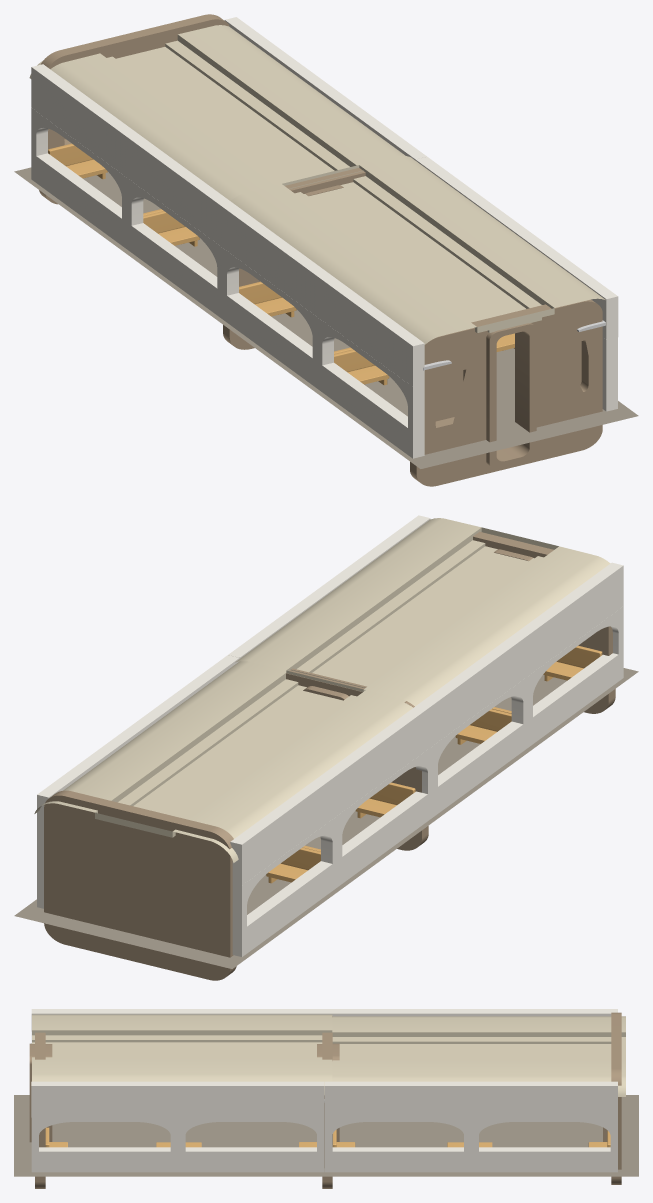
File: Train_basic.fbx
3 renders of one model, top to bottom at view 1: azimuth 30°, elevation 25°; view 2: azimuth 150°, elevation 25°; view 3: azimuth 270°, elevation 25°, orthographic. The views are drawn at different scales.
Parts seen in each view (by area): view 1: Cube.072, Cube.052, Cube.084, Plane.001, Cube.060, Cube.062, Cube.023, Cube.061, Cube.026, Cube.031, Cube.032, Cube.063 (+12 smaller); view 2: Cube.072, Cube.052, Cube.051, Cube.026, Cube.032, Plane, Cube.061, Cube.031, Cube.062, Cube.063, Cube.023, Cube.060 (+11 smaller); view 3: Cube.072, Cube.052, Plane, Plane.001, Cube.068, Cube.044, Cube.069, Cube.045, Cube.066, Cube.067, Cube.042, Cube.043 (+7 smaller).
Part boxes in pixels (left/top/right/bottom): Cube.072: left=230, top=155, right=605, bottom=344; Cube.052: left=29, top=25, right=405, bottom=200; Cube.084: left=410, top=299, right=602, bottom=486; Plane.001: left=210, top=309, right=638, bottom=468; Cube.060: left=317, top=317, right=424, bottom=458; Cube.062: left=317, top=273, right=424, bottom=387; Cube.023: left=126, top=178, right=221, bottom=318; Cube.061: left=222, top=247, right=317, bottom=388; Cube.026: left=31, top=108, right=126, bottom=248; Cube.031: left=126, top=134, right=233, bottom=246; Cube.032: left=31, top=64, right=137, bottom=177; Cube.063: left=222, top=204, right=328, bottom=316; Cube.072: left=235, top=518, right=610, bottom=706; Cube.052: left=34, top=661, right=412, bottom=862; Cube.051: left=44, top=790, right=236, bottom=980; Cube.026: left=232, top=816, right=337, bottom=956; Cube.032: left=230, top=772, right=337, bottom=885; Plane: left=14, top=811, right=442, bottom=968; Cube.061: left=433, top=676, right=528, bottom=816; Cube.031: left=326, top=702, right=432, bottom=814; Cube.062: left=517, top=562, right=623, bottom=675; Cube.063: left=421, top=632, right=527, bottom=745; Cube.023: left=337, top=746, right=432, bottom=887; Cube.060: left=528, top=606, right=623, bottom=747; Cube.072: left=32, top=1014, right=332, bottom=1094; Cube.052: left=326, top=1016, right=625, bottom=1096; Plane: left=314, top=1095, right=638, bottom=1176; Plane.001: left=14, top=1095, right=338, bottom=1176; Cube.068: left=31, top=1081, right=178, bottom=1117; Cube.044: left=325, top=1081, right=471, bottom=1117; Cube.069: left=178, top=1081, right=324, bottom=1117; Cube.045: left=471, top=1081, right=617, bottom=1117; Cube.066: left=31, top=1117, right=178, bottom=1172; Cube.067: left=178, top=1117, right=324, bottom=1172; Cube.042: left=325, top=1117, right=471, bottom=1172; Cube.043: left=471, top=1117, right=617, bottom=1172.
Size of the model in its own units: 2382 by 1618 by 7686.
